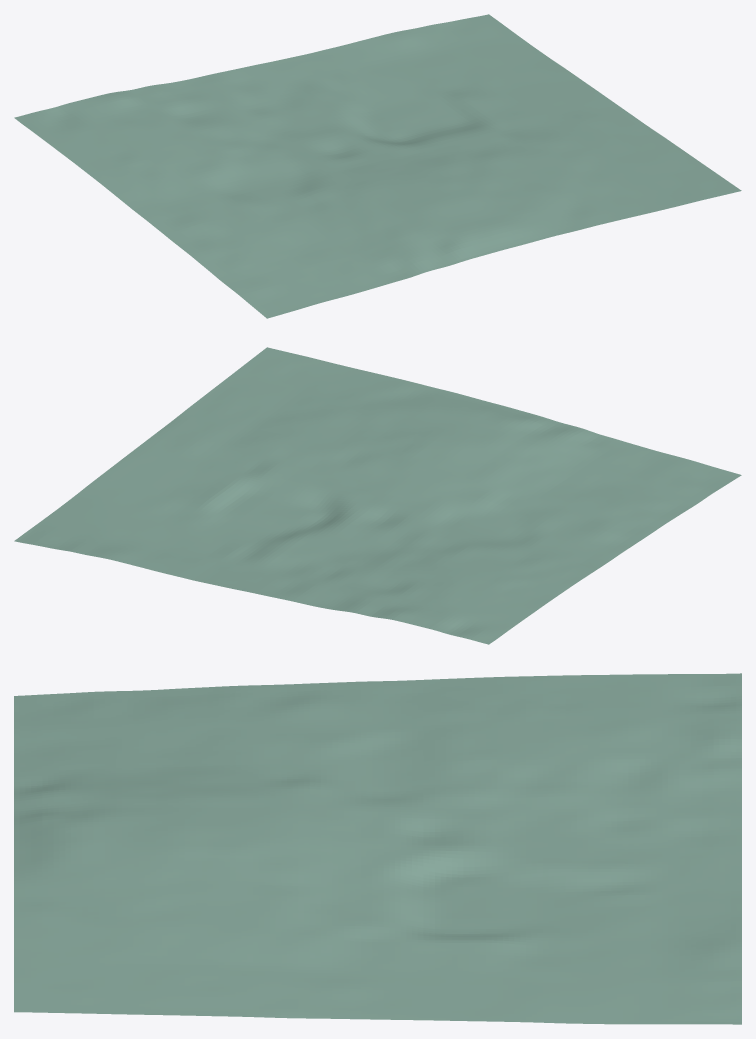
The model's file is seattle-center-terrain-preview.glb.
The picture shows the model from 3 angles, top to bottom: view 1: azimuth 30°, elevation 25°; view 2: azimuth 150°, elevation 25°; view 3: azimuth 270°, elevation 25°; orthographic projection. The views are drawn at different scales.
Bounding box in the file's own units: 804 × 28 × 742.
